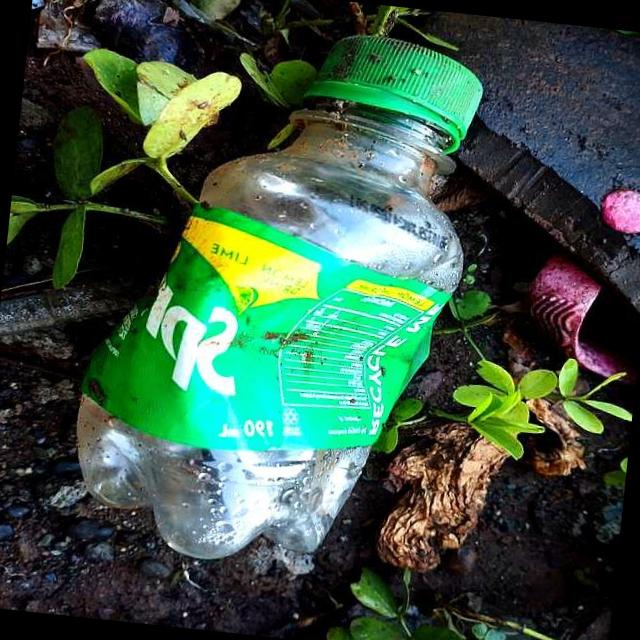Non-biodegradable: (66, 12, 496, 582)
